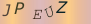E: (32, 9, 44, 20)
J: (1, 3, 12, 18)
P: (14, 1, 25, 15)
U: (44, 5, 54, 18)
Z: (56, 1, 68, 14)
